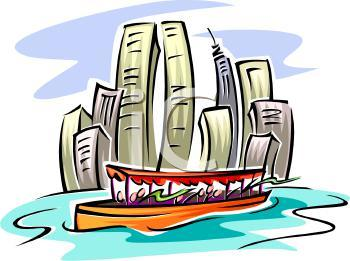boat: (72, 163, 272, 234)
